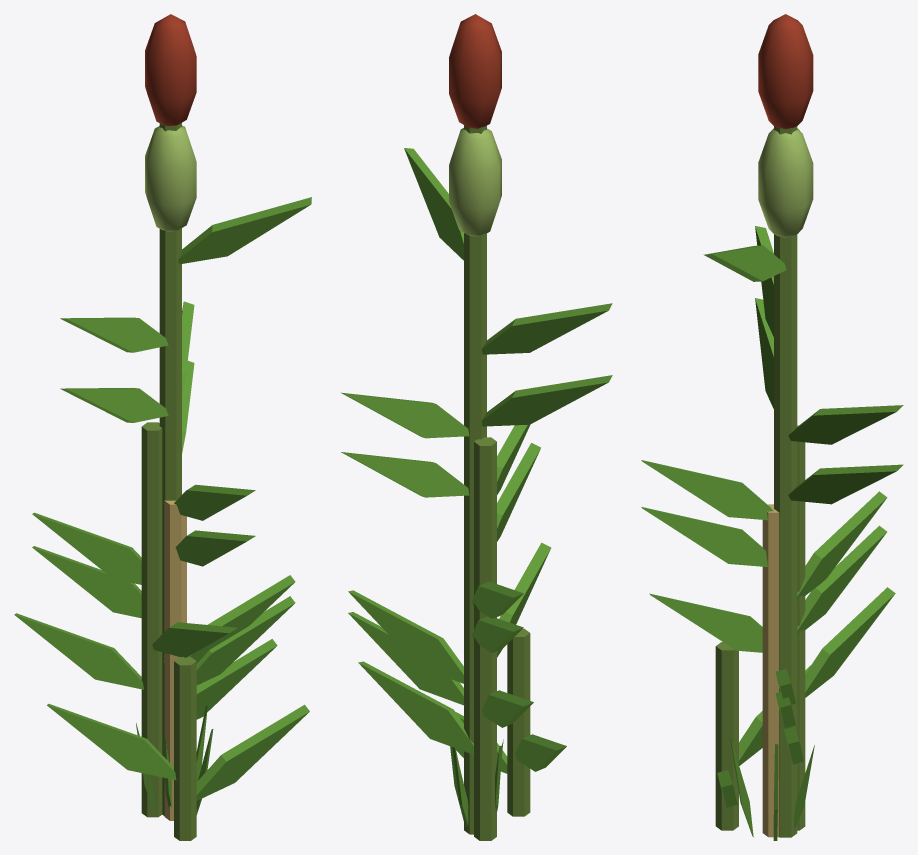
File: Crop_Grain_Sorghum.fbx
The picture shows the model from 3 angles, left to right: view 1: azimuth 30°, elevation 25°; view 2: azimuth 150°, elevation 25°; view 3: azimuth 270°, elevation 25°; orthographic projection. The views are drawn at different scales.
Parts seen in each view (by area): view 1: Crop_Grain_Sorghum__S4, Crop_Grain_Sorghum__S3, Crop_Grain_Sorghum__S2, Crop_Grain_Sorghum__S1, Crop_Grain_Sorghum__S5; view 2: Crop_Grain_Sorghum__S3, Crop_Grain_Sorghum__S4, Crop_Grain_Sorghum__S2, Crop_Grain_Sorghum__S1, Crop_Grain_Sorghum__S5; view 3: Crop_Grain_Sorghum__S3, Crop_Grain_Sorghum__S4, Crop_Grain_Sorghum__S2, Crop_Grain_Sorghum__S5, Crop_Grain_Sorghum__S1.
Part boxes in pixels (bbox=[...]): Crop_Grain_Sorghum__S4: bbox=[32, 14, 311, 815]; Crop_Grain_Sorghum__S3: bbox=[32, 125, 295, 815]; Crop_Grain_Sorghum__S2: bbox=[14, 422, 277, 817]; Crop_Grain_Sorghum__S1: bbox=[47, 657, 309, 840]; Crop_Grain_Sorghum__S5: bbox=[136, 500, 213, 820]; Crop_Grain_Sorghum__S3: bbox=[341, 128, 612, 834]; Crop_Grain_Sorghum__S4: bbox=[341, 14, 612, 834]; Crop_Grain_Sorghum__S2: bbox=[358, 437, 551, 840]; Crop_Grain_Sorghum__S1: bbox=[455, 628, 566, 816]; Crop_Grain_Sorghum__S5: bbox=[450, 739, 503, 826]; Crop_Grain_Sorghum__S3: bbox=[641, 128, 903, 837]; Crop_Grain_Sorghum__S4: bbox=[641, 14, 903, 837]; Crop_Grain_Sorghum__S2: bbox=[649, 425, 895, 830]; Crop_Grain_Sorghum__S5: bbox=[730, 504, 814, 840]; Crop_Grain_Sorghum__S1: bbox=[715, 642, 810, 830].
Bounding box in the file's own units: 0.1991 × 0.625 × 0.1816.
